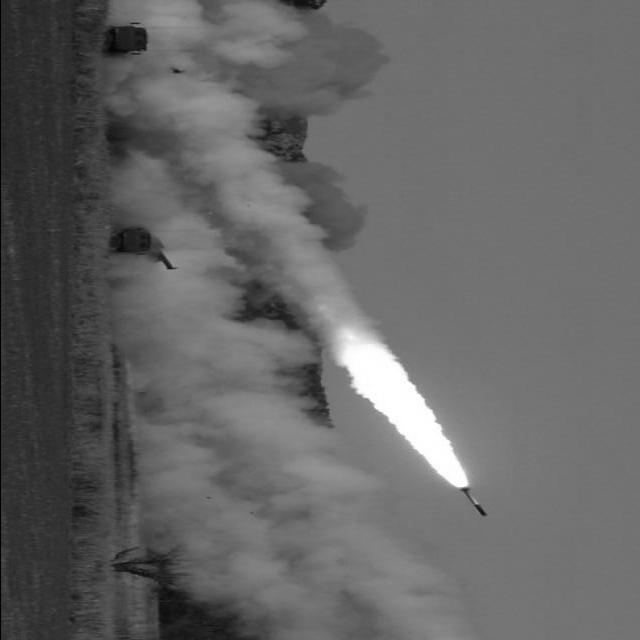missile: (457, 485, 493, 521)
